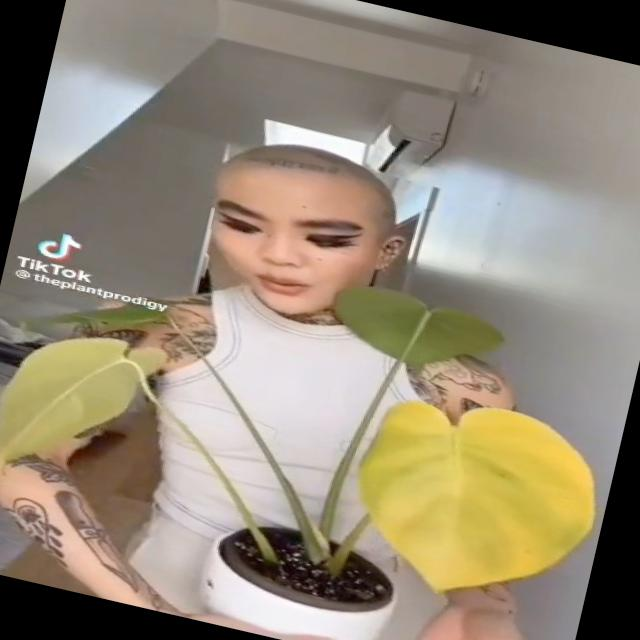lisc_przelany: (357, 399, 596, 595), (0, 337, 170, 460)
roslina_przelana: (0, 286, 598, 593)
